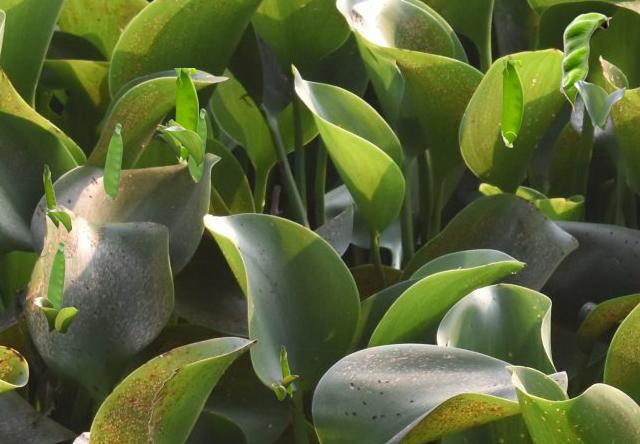pea: (559, 12, 611, 112), (174, 68, 197, 163), (501, 60, 522, 146), (103, 123, 121, 200), (188, 108, 205, 181), (47, 241, 64, 310), (280, 345, 291, 396), (43, 164, 56, 207)
